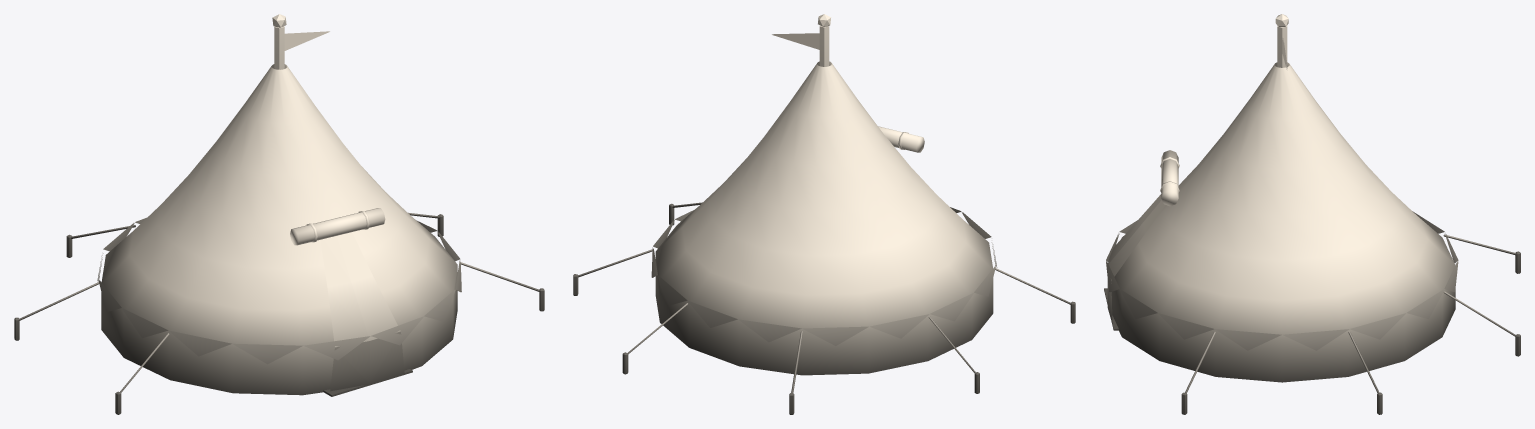
Rendered from SM_VK_Tent_Bell.fbx.
3 views of the same model, side by side, from view 1: azimuth 30°, elevation 25°; view 2: azimuth 150°, elevation 25°; view 3: azimuth 270°, elevation 25° (orthographic). The views are drawn at different scales.
Parts seen in each view (by area): view 1: SM_VK_Tent_Bell.001; view 2: SM_VK_Tent_Bell.001; view 3: SM_VK_Tent_Bell.001.
Boxes of the visible parts, x1=… form: SM_VK_Tent_Bell.001: x1=14, y1=14, x2=544, y2=414; SM_VK_Tent_Bell.001: x1=573, y1=14, x2=1075, y2=414; SM_VK_Tent_Bell.001: x1=1104, y1=14, x2=1520, y2=414.
Size of the model in its own units: 4.95 by 3.44 by 4.33.
